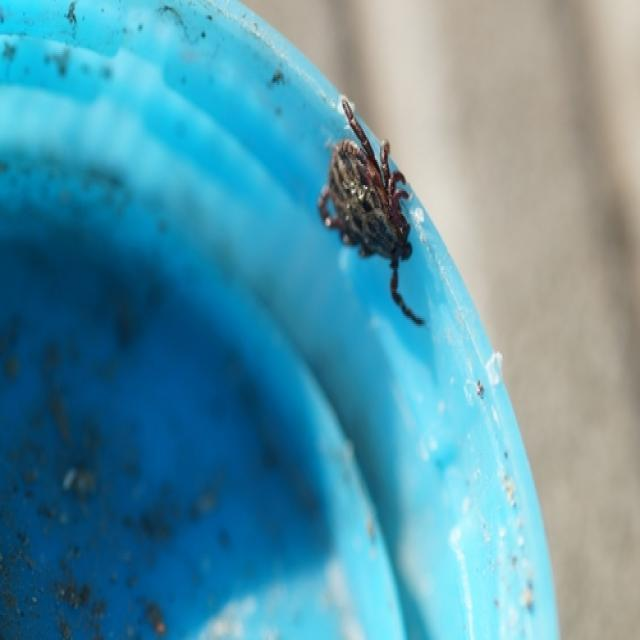Dermacentor Reticulatus-M: (316, 96, 426, 326)
